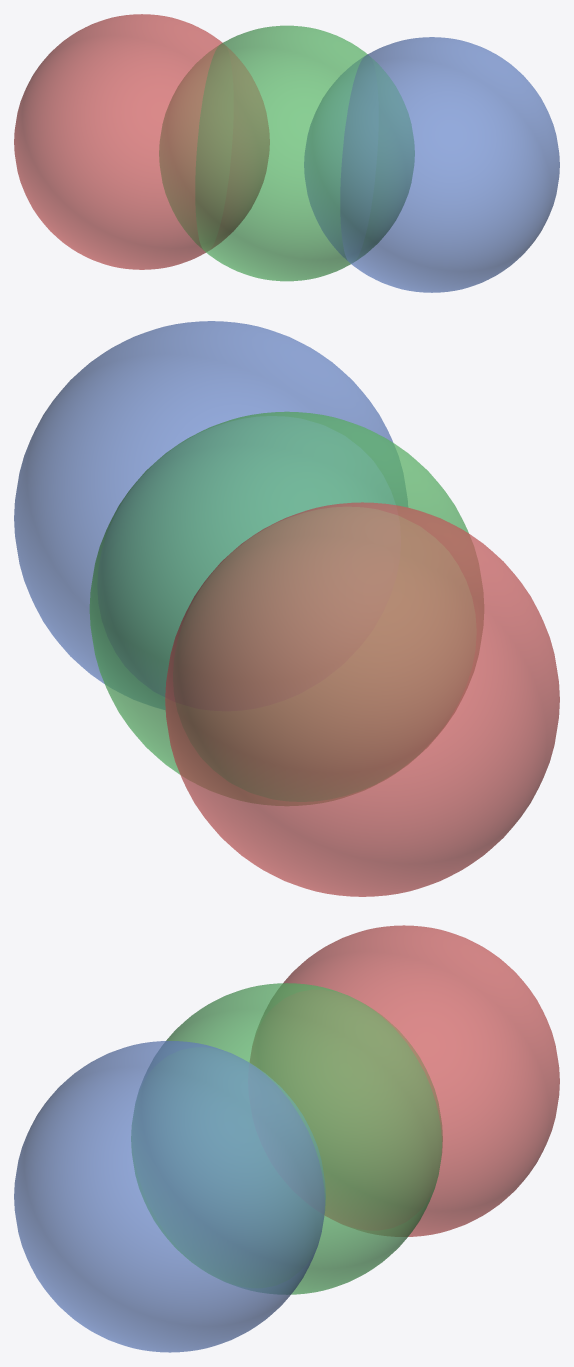
The model's file is oit_sphere_fixture.gltf.
3 renders of one model, top to bottom at view 1: azimuth 30°, elevation 25°; view 2: azimuth 150°, elevation 25°; view 3: azimuth 270°, elevation 25°, orthographic. The views are drawn at different scales.
Visible parts, largest first — view 1: oit_blue, oit_red, oit_green; view 2: oit_red, oit_green, oit_blue; view 3: oit_blue, oit_green, oit_red.
Boxes of the visible parts, bbox=[...] form: oit_blue: bbox=[304, 37, 559, 292]; oit_red: bbox=[14, 14, 269, 269]; oit_green: bbox=[159, 25, 414, 281]; oit_red: bbox=[165, 502, 559, 896]; oit_green: bbox=[89, 411, 483, 805]; oit_blue: bbox=[14, 321, 407, 709]; oit_blue: bbox=[14, 1041, 325, 1352]; oit_green: bbox=[131, 983, 442, 1294]; oit_red: bbox=[250, 925, 559, 1236].
Bounding box in the file's own units: 3 × 1.6 × 2.8.
